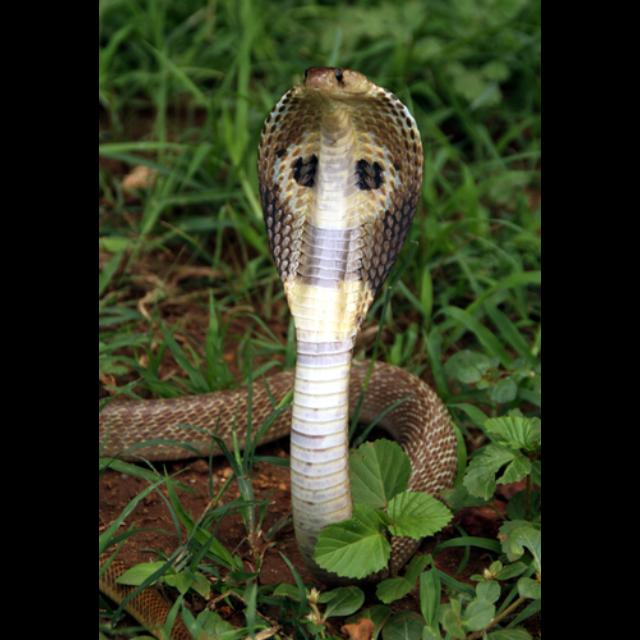snake: (120, 62, 460, 562)
